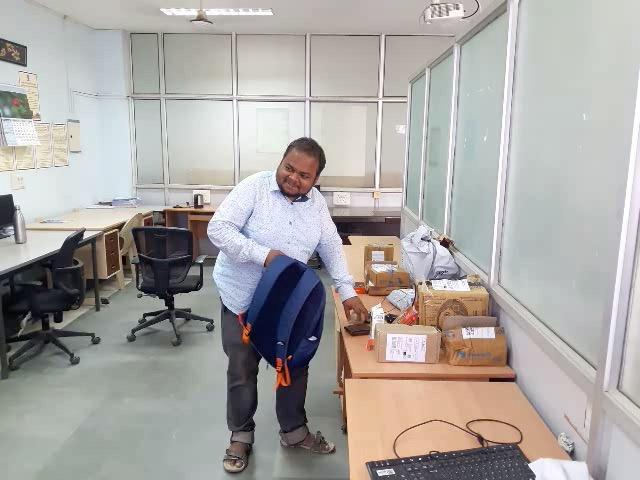shoplifting: (201, 212, 372, 386)
